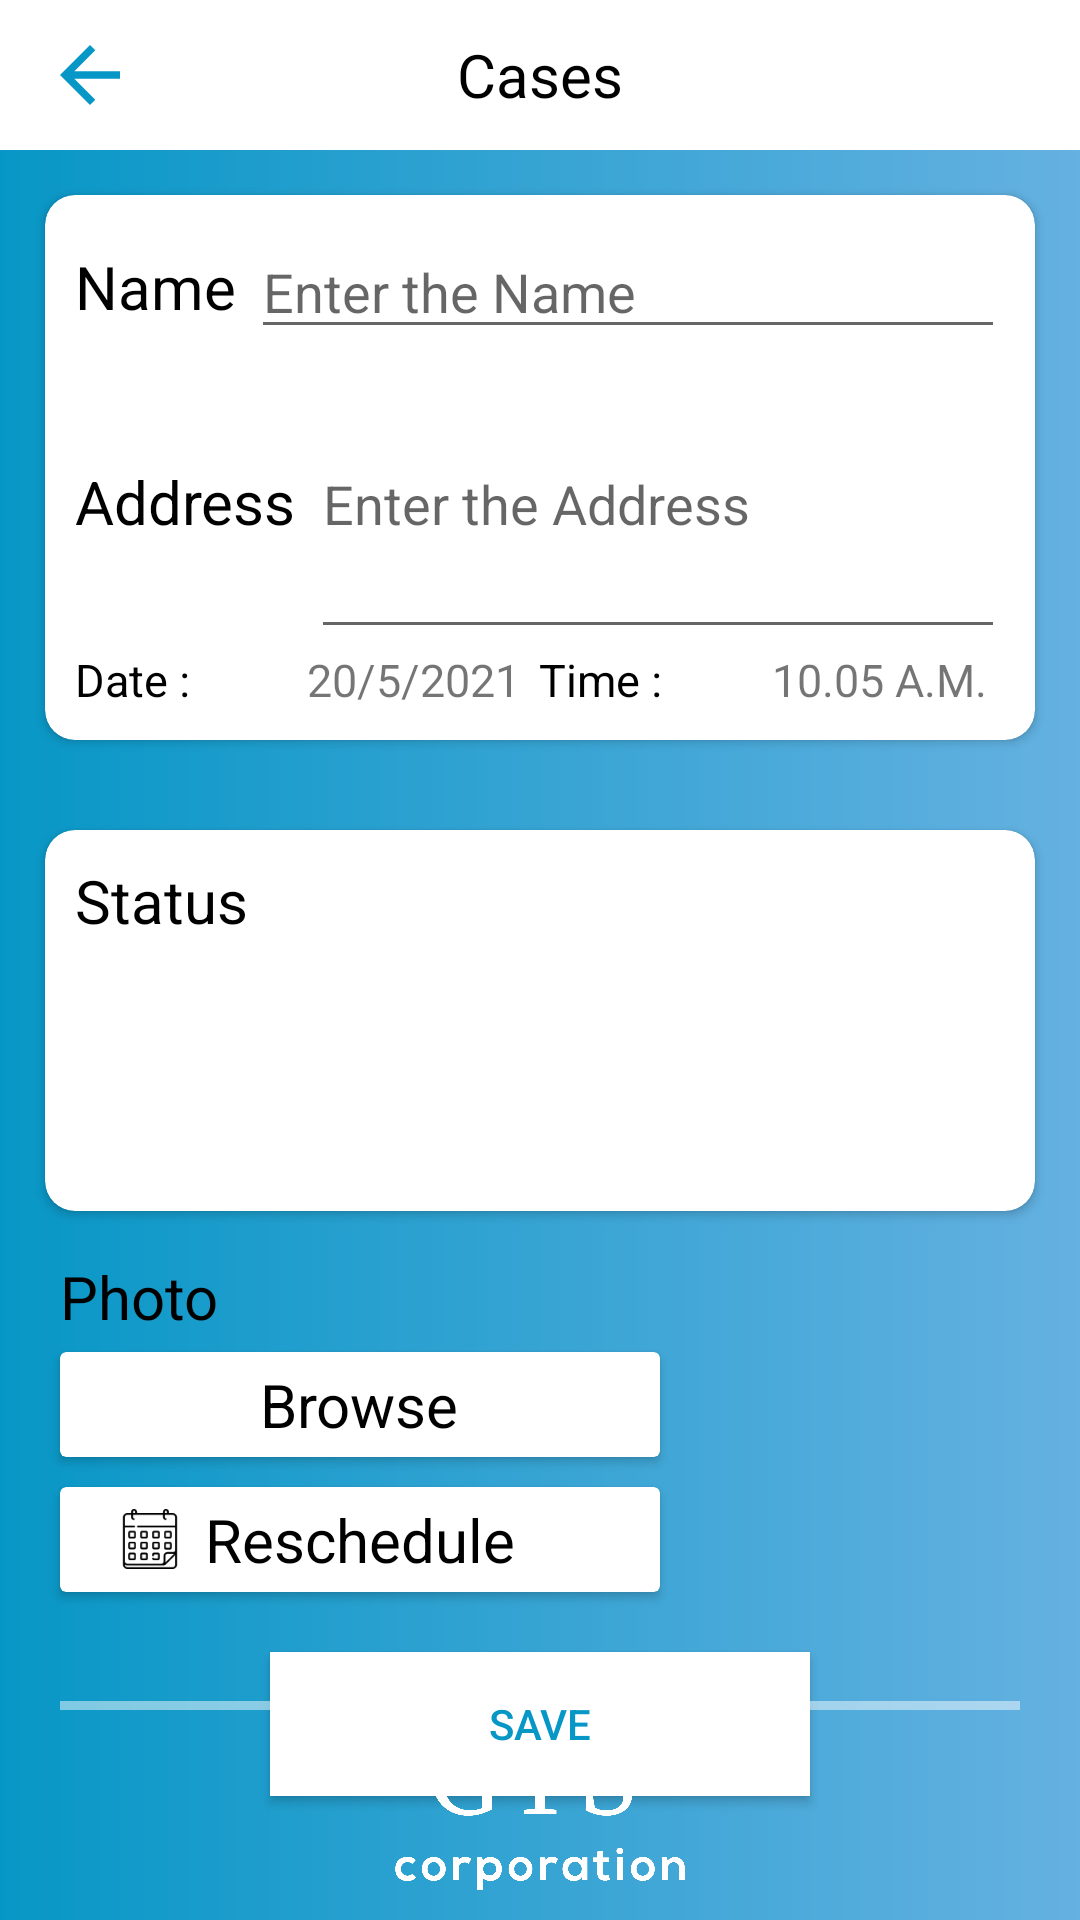

Icons on this 1080x1920 Android screen, each with the point to tap as (x=x, y=y):
arrow back: (x=90, y=75)
calendar: (x=150, y=1539)
